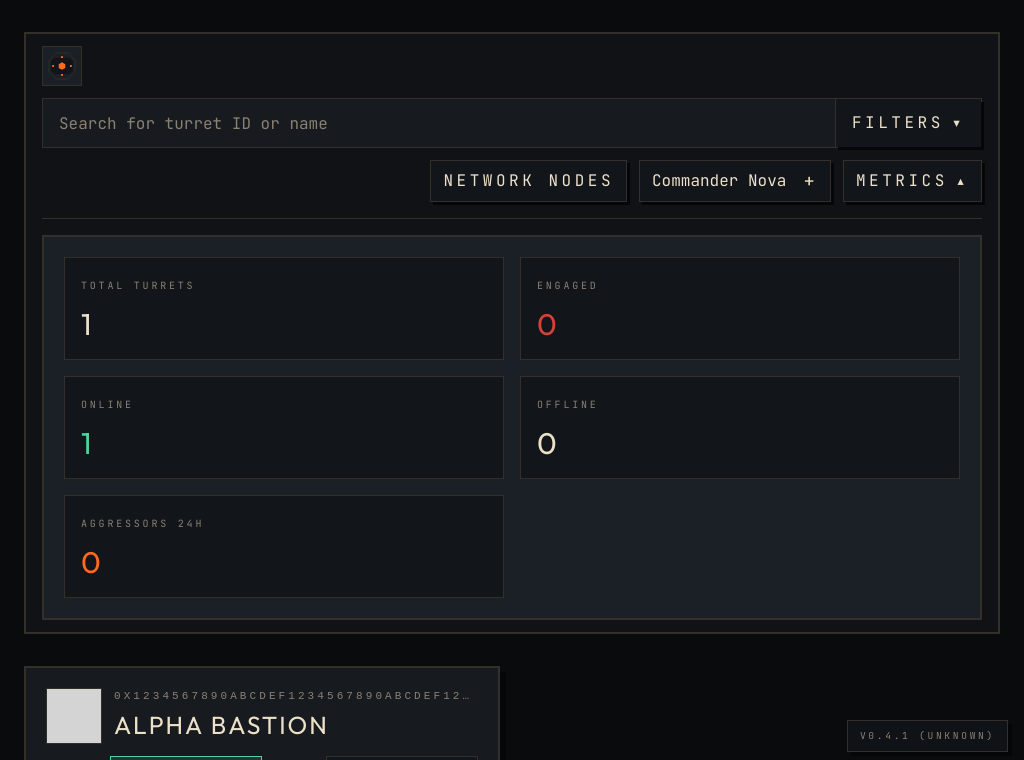
App › opens the network node drawer from the header
This screenshot has width=1024, height=760.
Click the button "Network Nodes" at (529, 181), box [430,160,627,202]
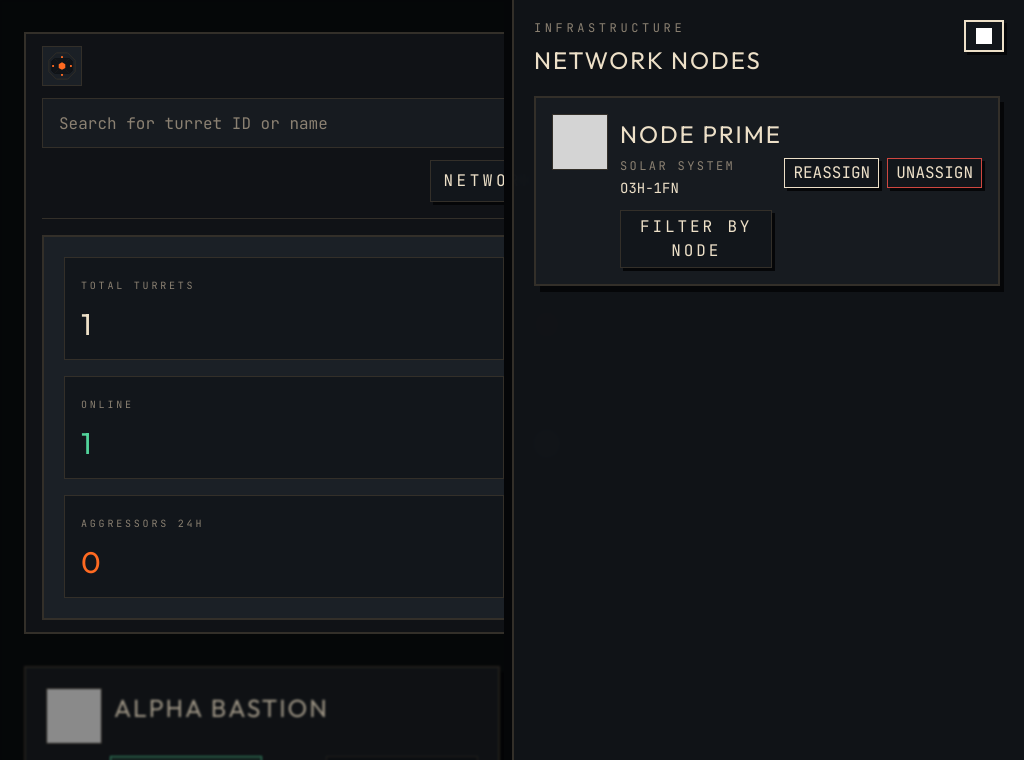
Result: the heading "Network Nodes" is shown at [534,44,762,76]
Result: the heading "NODE PRIME" is shown at [620,119,782,149]
